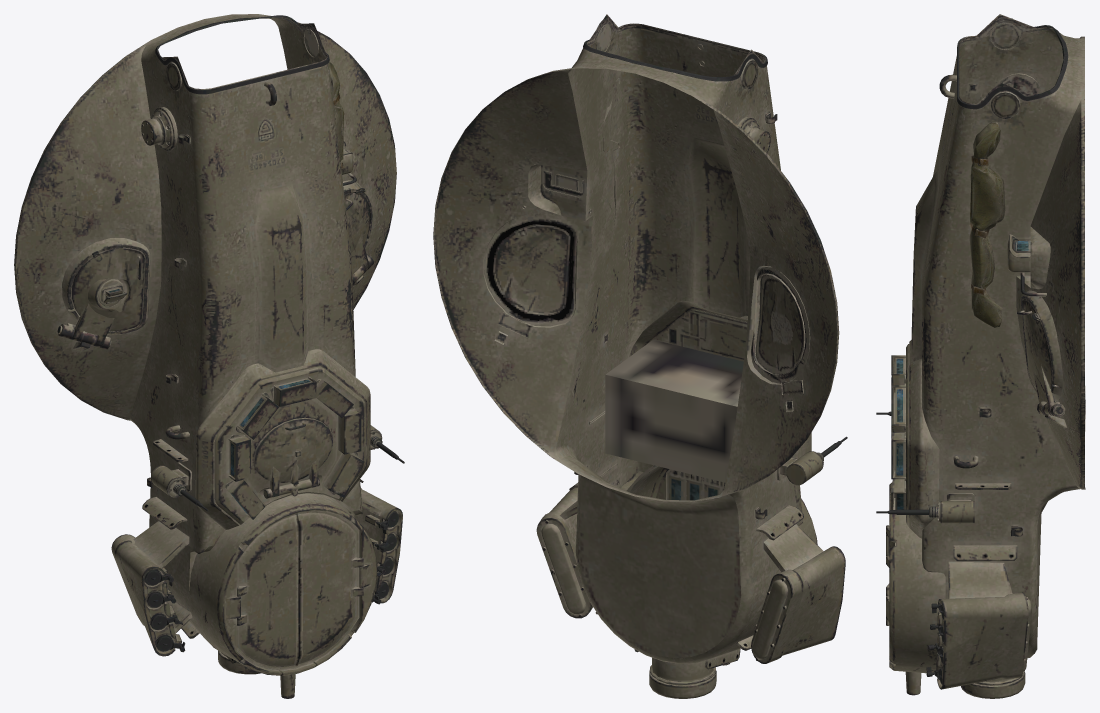
File: Turret_01.glb
3 views of the same model, side by side, from view 1: azimuth 30°, elevation 25°; view 2: azimuth 150°, elevation 25°; view 3: azimuth 270°, elevation 25° (orthographic). The views are drawn at different scales.
Parts seen in each view (by area): view 1: set_0_group_0; view 2: set_0_group_0; view 3: set_0_group_0.
Boxes of the visible parts, bbox=[...] form: set_0_group_0: bbox=[14, 14, 404, 698]; set_0_group_0: bbox=[433, 14, 847, 698]; set_0_group_0: bbox=[876, 14, 1085, 698].
Size of the model in its own units: 2.78 by 4.36 by 1.28.
1 material, 1 textured.
